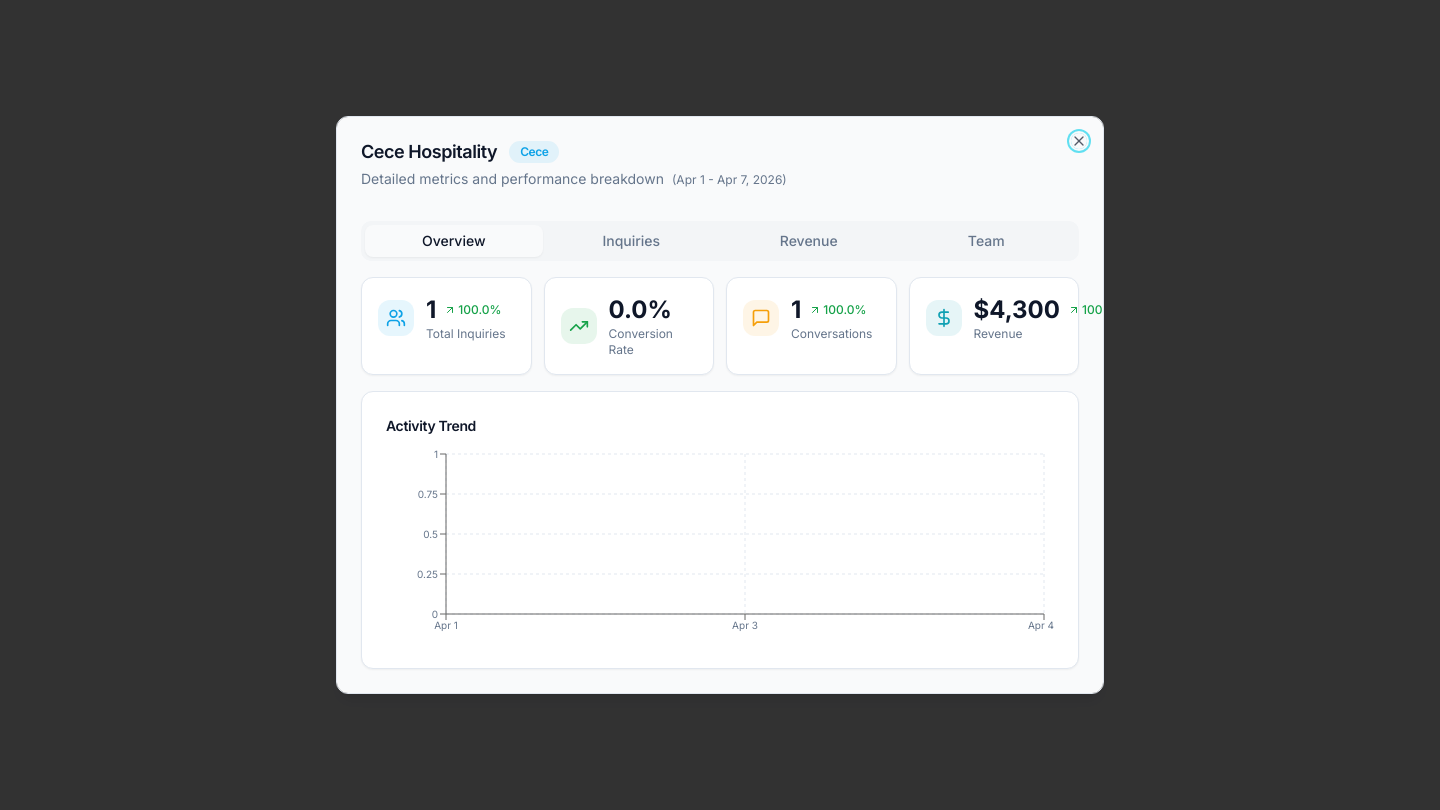
Scenario: OrgDrilldownDialog › uses booking revenue labels and totals for Cece revenue tab
Expected: the text "Total Inquiries" is shown, [426,326,506,342]
Step 1. Click the tab "Revenue" → (809, 241), box [720,225,898,257]
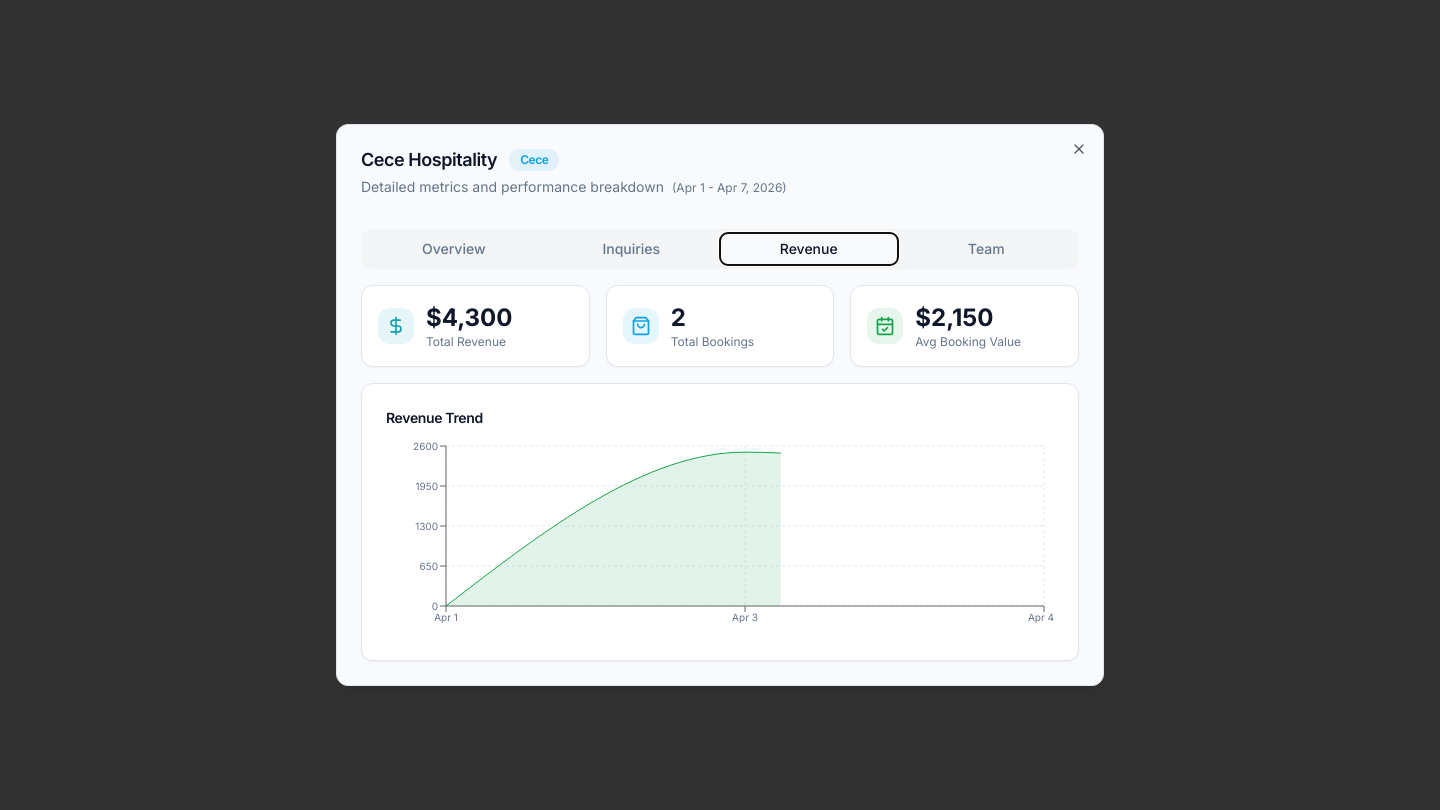
Result: the text "Total Bookings" is shown at [671,334,754,350]
Result: the text "Avg Booking Value" is shown at [915,334,1021,350]
Result: the text "$2,150" is shown at [915,303,993,332]
